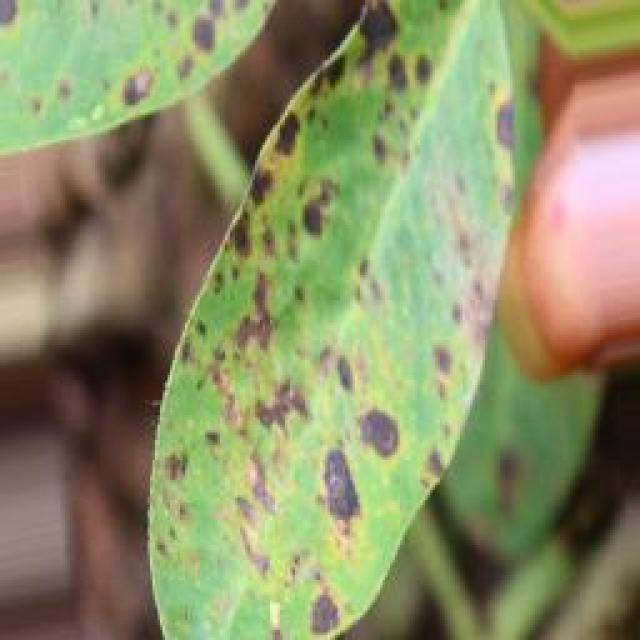Yellowish: (164, 0, 533, 640), (0, 0, 276, 151)
